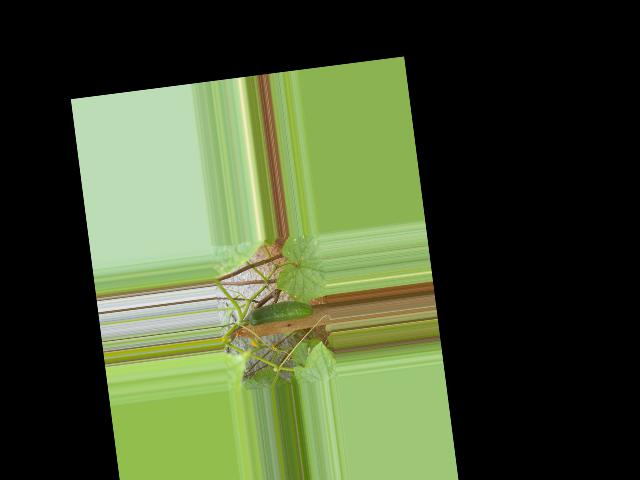cucumber: (246, 298, 314, 327)
